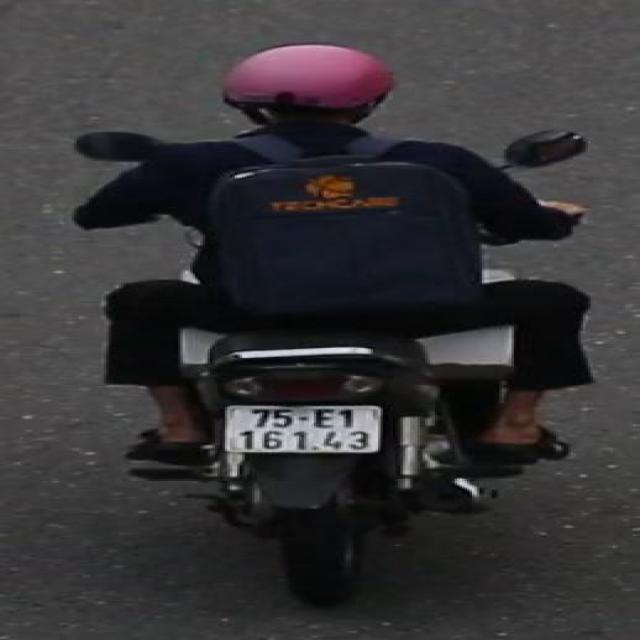LP: (214, 396, 402, 460)
helmet: (206, 41, 422, 145)
